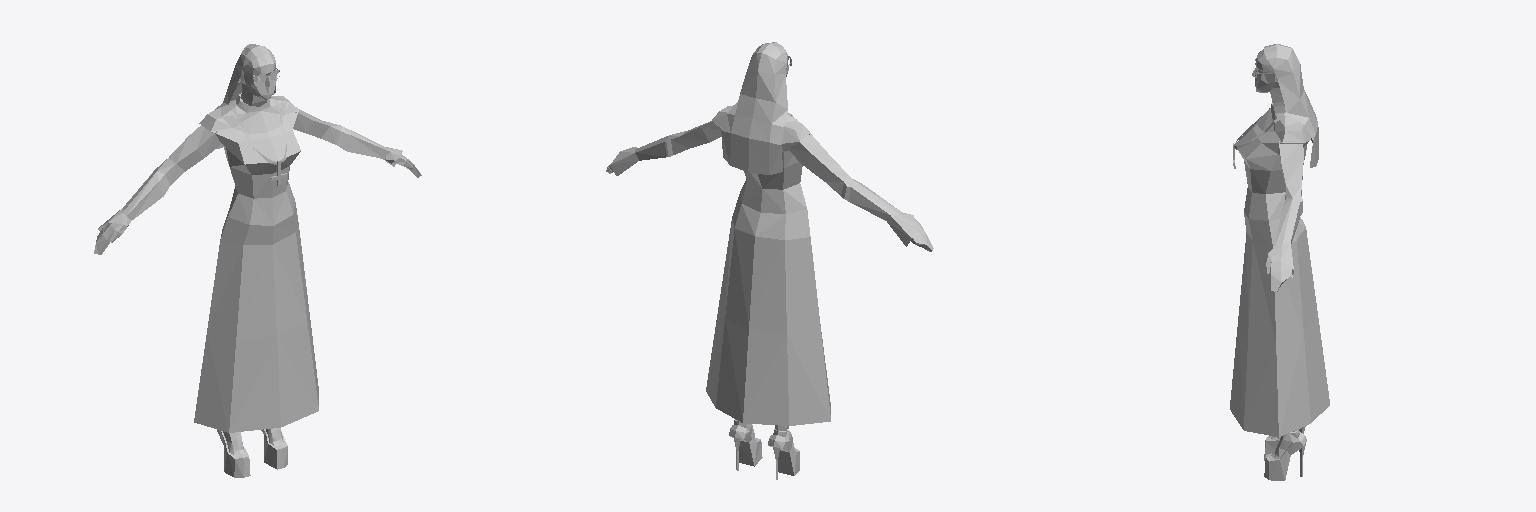
The model's file is nun_1.obj.
3 views of the same model, side by side, from view 1: azimuth 30°, elevation 25°; view 2: azimuth 150°, elevation 25°; view 3: azimuth 270°, elevation 25° (orthographic).
Visible parts, largest first — view 1: Nun_Body, Nun_Arm, Nun_Head, Nun_Foot, Nun_Foot.001, Nun_Hand; view 2: Nun_Body, Nun_Head, Nun_Arm, Nun_Foot.001, Nun_Foot; view 3: Nun_Body, Nun_Head, Nun_Arm, Nun_Foot.001, Nun_Hand.
Part boxes in pixels (left/top/right/bottom): Nun_Body: left=194, top=93, right=318, bottom=432; Nun_Arm: left=98, top=109, right=402, bottom=230; Nun_Head: left=215, top=44, right=276, bottom=148; Nun_Foot: left=217, top=430, right=250, bottom=477; Nun_Foot.001: left=261, top=428, right=287, bottom=469; Nun_Hand: left=94, top=155, right=421, bottom=254; Nun_Body: left=706, top=105, right=830, bottom=425; Nun_Head: left=721, top=42, right=788, bottom=174; Nun_Arm: left=610, top=121, right=914, bottom=246; Nun_Foot.001: left=729, top=419, right=762, bottom=470; Nun_Foot: left=768, top=429, right=799, bottom=479; Nun_Body: left=1230, top=103, right=1329, bottom=436; Nun_Head: left=1252, top=44, right=1318, bottom=167; Nun_Arm: left=1268, top=141, right=1303, bottom=277; Nun_Foot.001: left=1264, top=430, right=1306, bottom=480; Nun_Hand: left=1266, top=254, right=1290, bottom=291.
Size of the model in its own units: 1.38 by 1.71 by 0.3689.